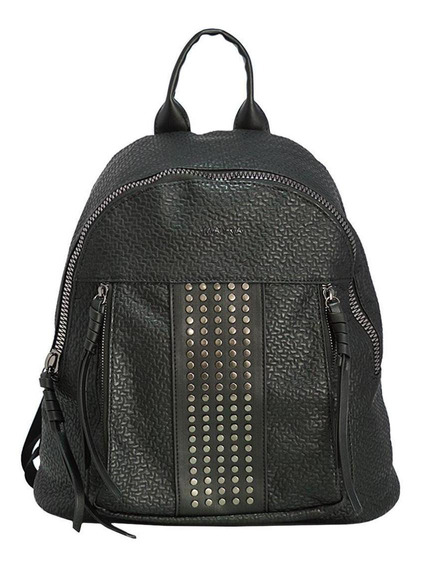cartera: (17, 26, 404, 544)
